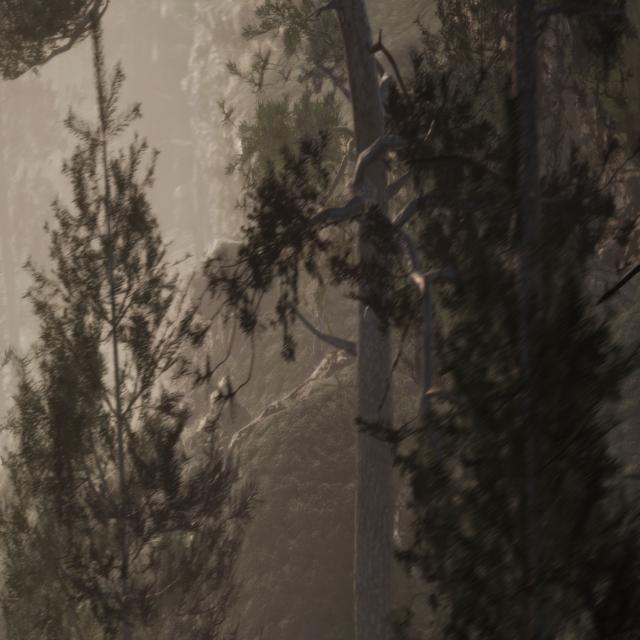Human: (309, 299, 330, 377)
